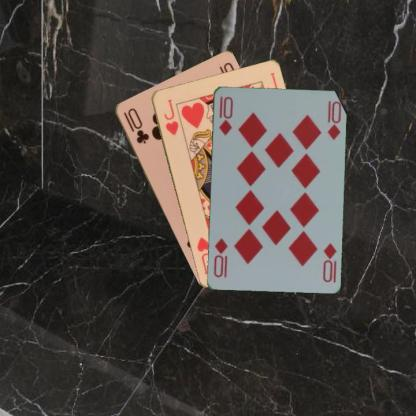10c: (121, 105, 150, 146)
10d: (216, 93, 234, 136), (320, 240, 338, 283)
Jh: (161, 96, 180, 136)
